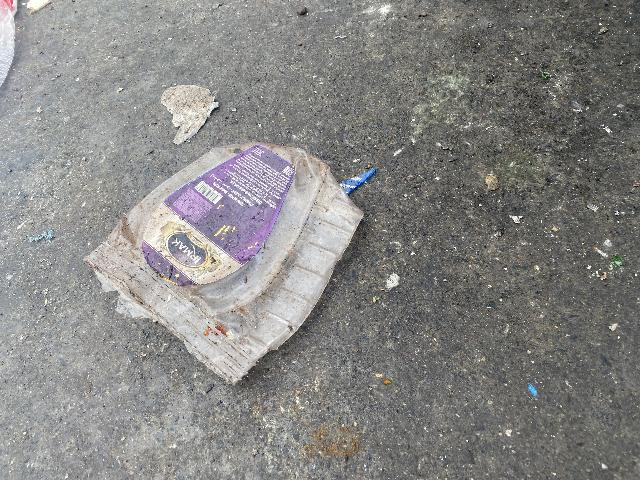Kagit: (168, 81, 222, 137)
Plastik: (103, 141, 373, 368)
